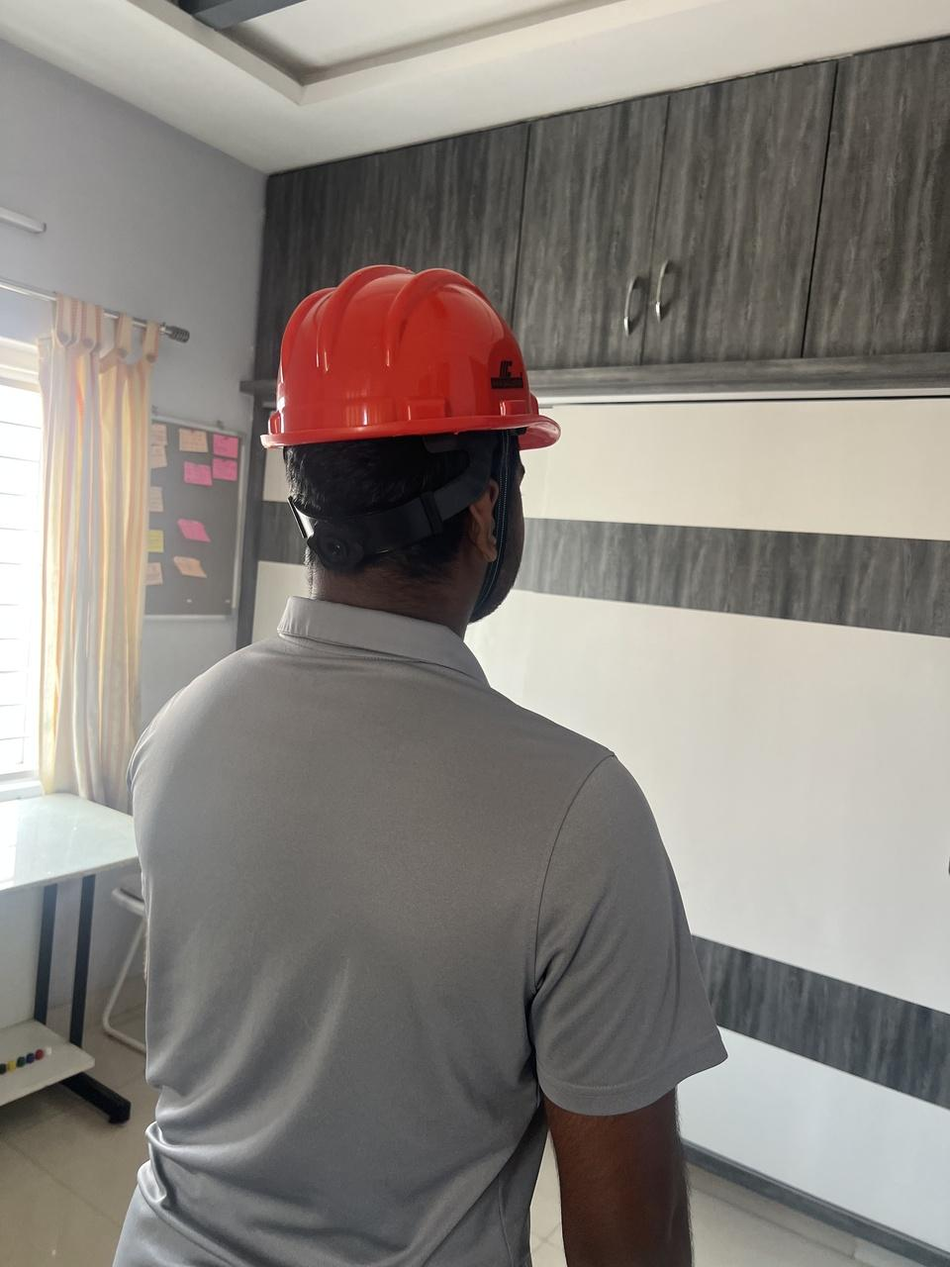Helmet: (259, 265, 561, 625)
No_Vest: (112, 597, 728, 1267)
Person: (112, 265, 728, 1267)
